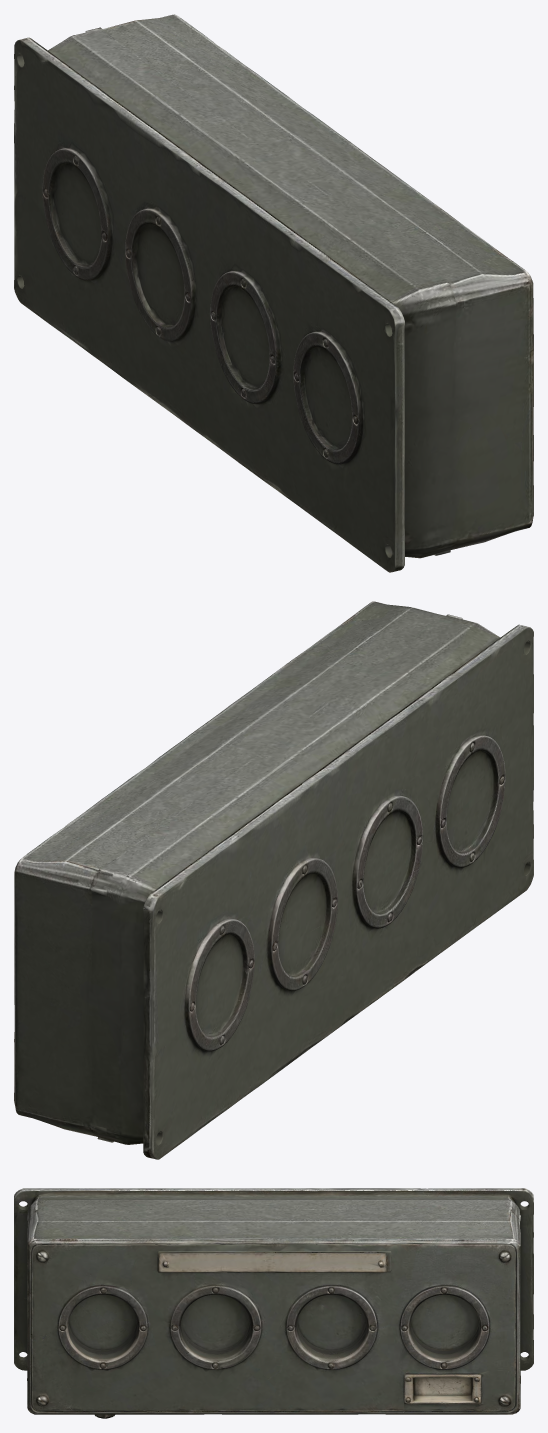
Rendered from panel.glb.
3 renders of one model, top to bottom at view 1: azimuth 30°, elevation 25°; view 2: azimuth 150°, elevation 25°; view 3: azimuth 270°, elevation 25°, orthographic. The views are drawn at different scales.
Visible parts, largest first — view 1: tripo_node_975fd9d7-1c54-458a-bf0e-79f2337ffe22; view 2: tripo_node_975fd9d7-1c54-458a-bf0e-79f2337ffe22; view 3: tripo_node_975fd9d7-1c54-458a-bf0e-79f2337ffe22.
Part boxes in pixels (left/top/right/bottom): tripo_node_975fd9d7-1c54-458a-bf0e-79f2337ffe22: left=14, top=14, right=533, bottom=572; tripo_node_975fd9d7-1c54-458a-bf0e-79f2337ffe22: left=14, top=601, right=533, bottom=1159; tripo_node_975fd9d7-1c54-458a-bf0e-79f2337ffe22: left=14, top=1188, right=533, bottom=1418.
Bounding box in the file's own units: 0.2389 × 0.4155 × 0.9791.
1 material, 1 textured.
